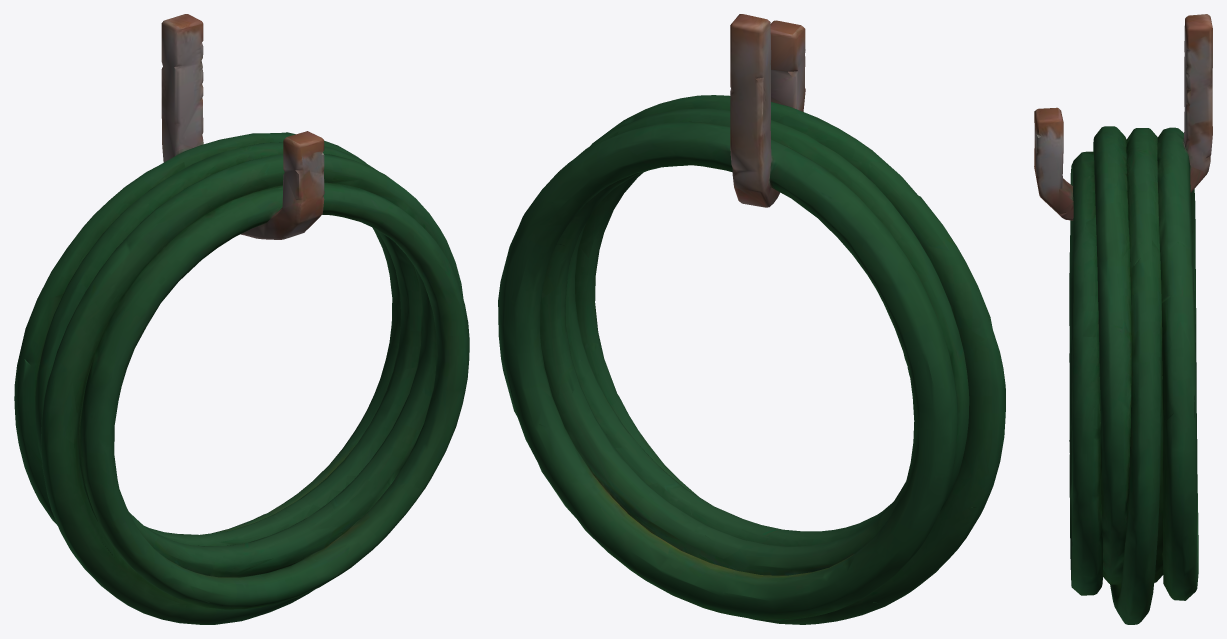
File: decor_hose_hanging_idle.glb
3 views of the same model, side by side, from view 1: azimuth 30°, elevation 25°; view 2: azimuth 150°, elevation 25°; view 3: azimuth 270°, elevation 25° (orthographic). The views are drawn at different scales.
Parts seen in each view (by area): view 1: tripo_node_59e015e3-4ab8-4dea-878a-6ec968cb3592; view 2: tripo_node_59e015e3-4ab8-4dea-878a-6ec968cb3592; view 3: tripo_node_59e015e3-4ab8-4dea-878a-6ec968cb3592.
Boxes of the visible parts, bbox=[...] form: tripo_node_59e015e3-4ab8-4dea-878a-6ec968cb3592: bbox=[14, 14, 469, 624]; tripo_node_59e015e3-4ab8-4dea-878a-6ec968cb3592: bbox=[498, 14, 1005, 624]; tripo_node_59e015e3-4ab8-4dea-878a-6ec968cb3592: bbox=[1034, 14, 1212, 624].
Bounding box in the file's own units: 0.4666 × 0.5997 × 0.1709.
1 material, 1 textured.
